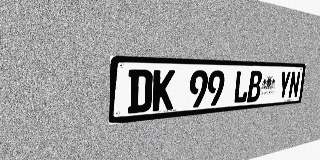9: (188, 70, 209, 108), (206, 70, 225, 106)
B: (247, 71, 263, 102)
D: (127, 69, 153, 114)
K: (152, 70, 175, 111)
L: (233, 71, 250, 104)
N: (288, 71, 301, 99)
Y: (277, 71, 291, 100)
